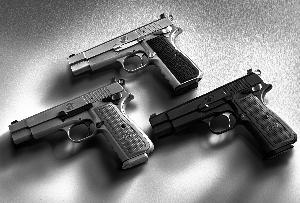handgun: (0, 78, 144, 183), (150, 66, 266, 165), (67, 6, 197, 91)
